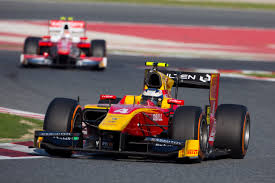race car: (26, 60, 252, 165), (18, 16, 107, 71)
